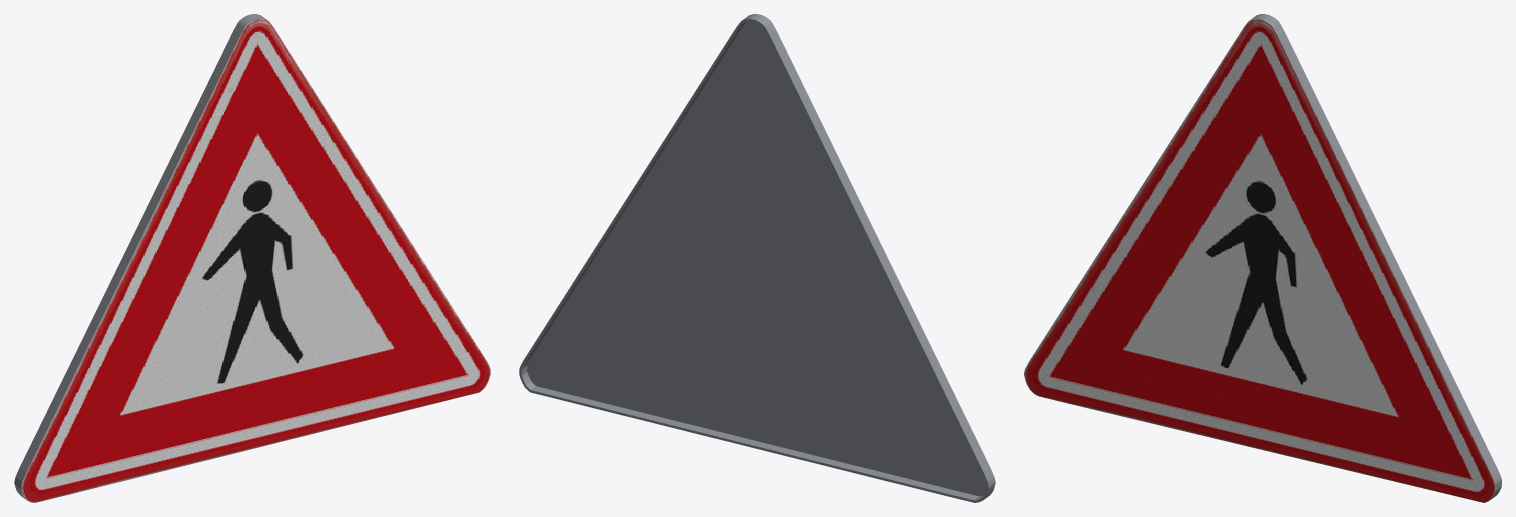
3 renders of one model, left to right at view 1: azimuth 30°, elevation 25°; view 2: azimuth 150°, elevation 25°; view 3: azimuth 330°, elevation 25°, orthographic.
Parts seen in each view (by area): view 1: cat_70b6ea7749889c90; view 2: cat_70b6ea7749889c90; view 3: cat_70b6ea7749889c90.
Boxes of the visible parts, left/top/right/bottom form: cat_70b6ea7749889c90: left=14, top=14, right=490, bottom=502; cat_70b6ea7749889c90: left=519, top=14, right=995, bottom=502; cat_70b6ea7749889c90: left=1024, top=14, right=1501, bottom=502.
Bounding box in the file's own units: 0.6 × 0.015 × 0.5245.
2 materials, 1 textured.
